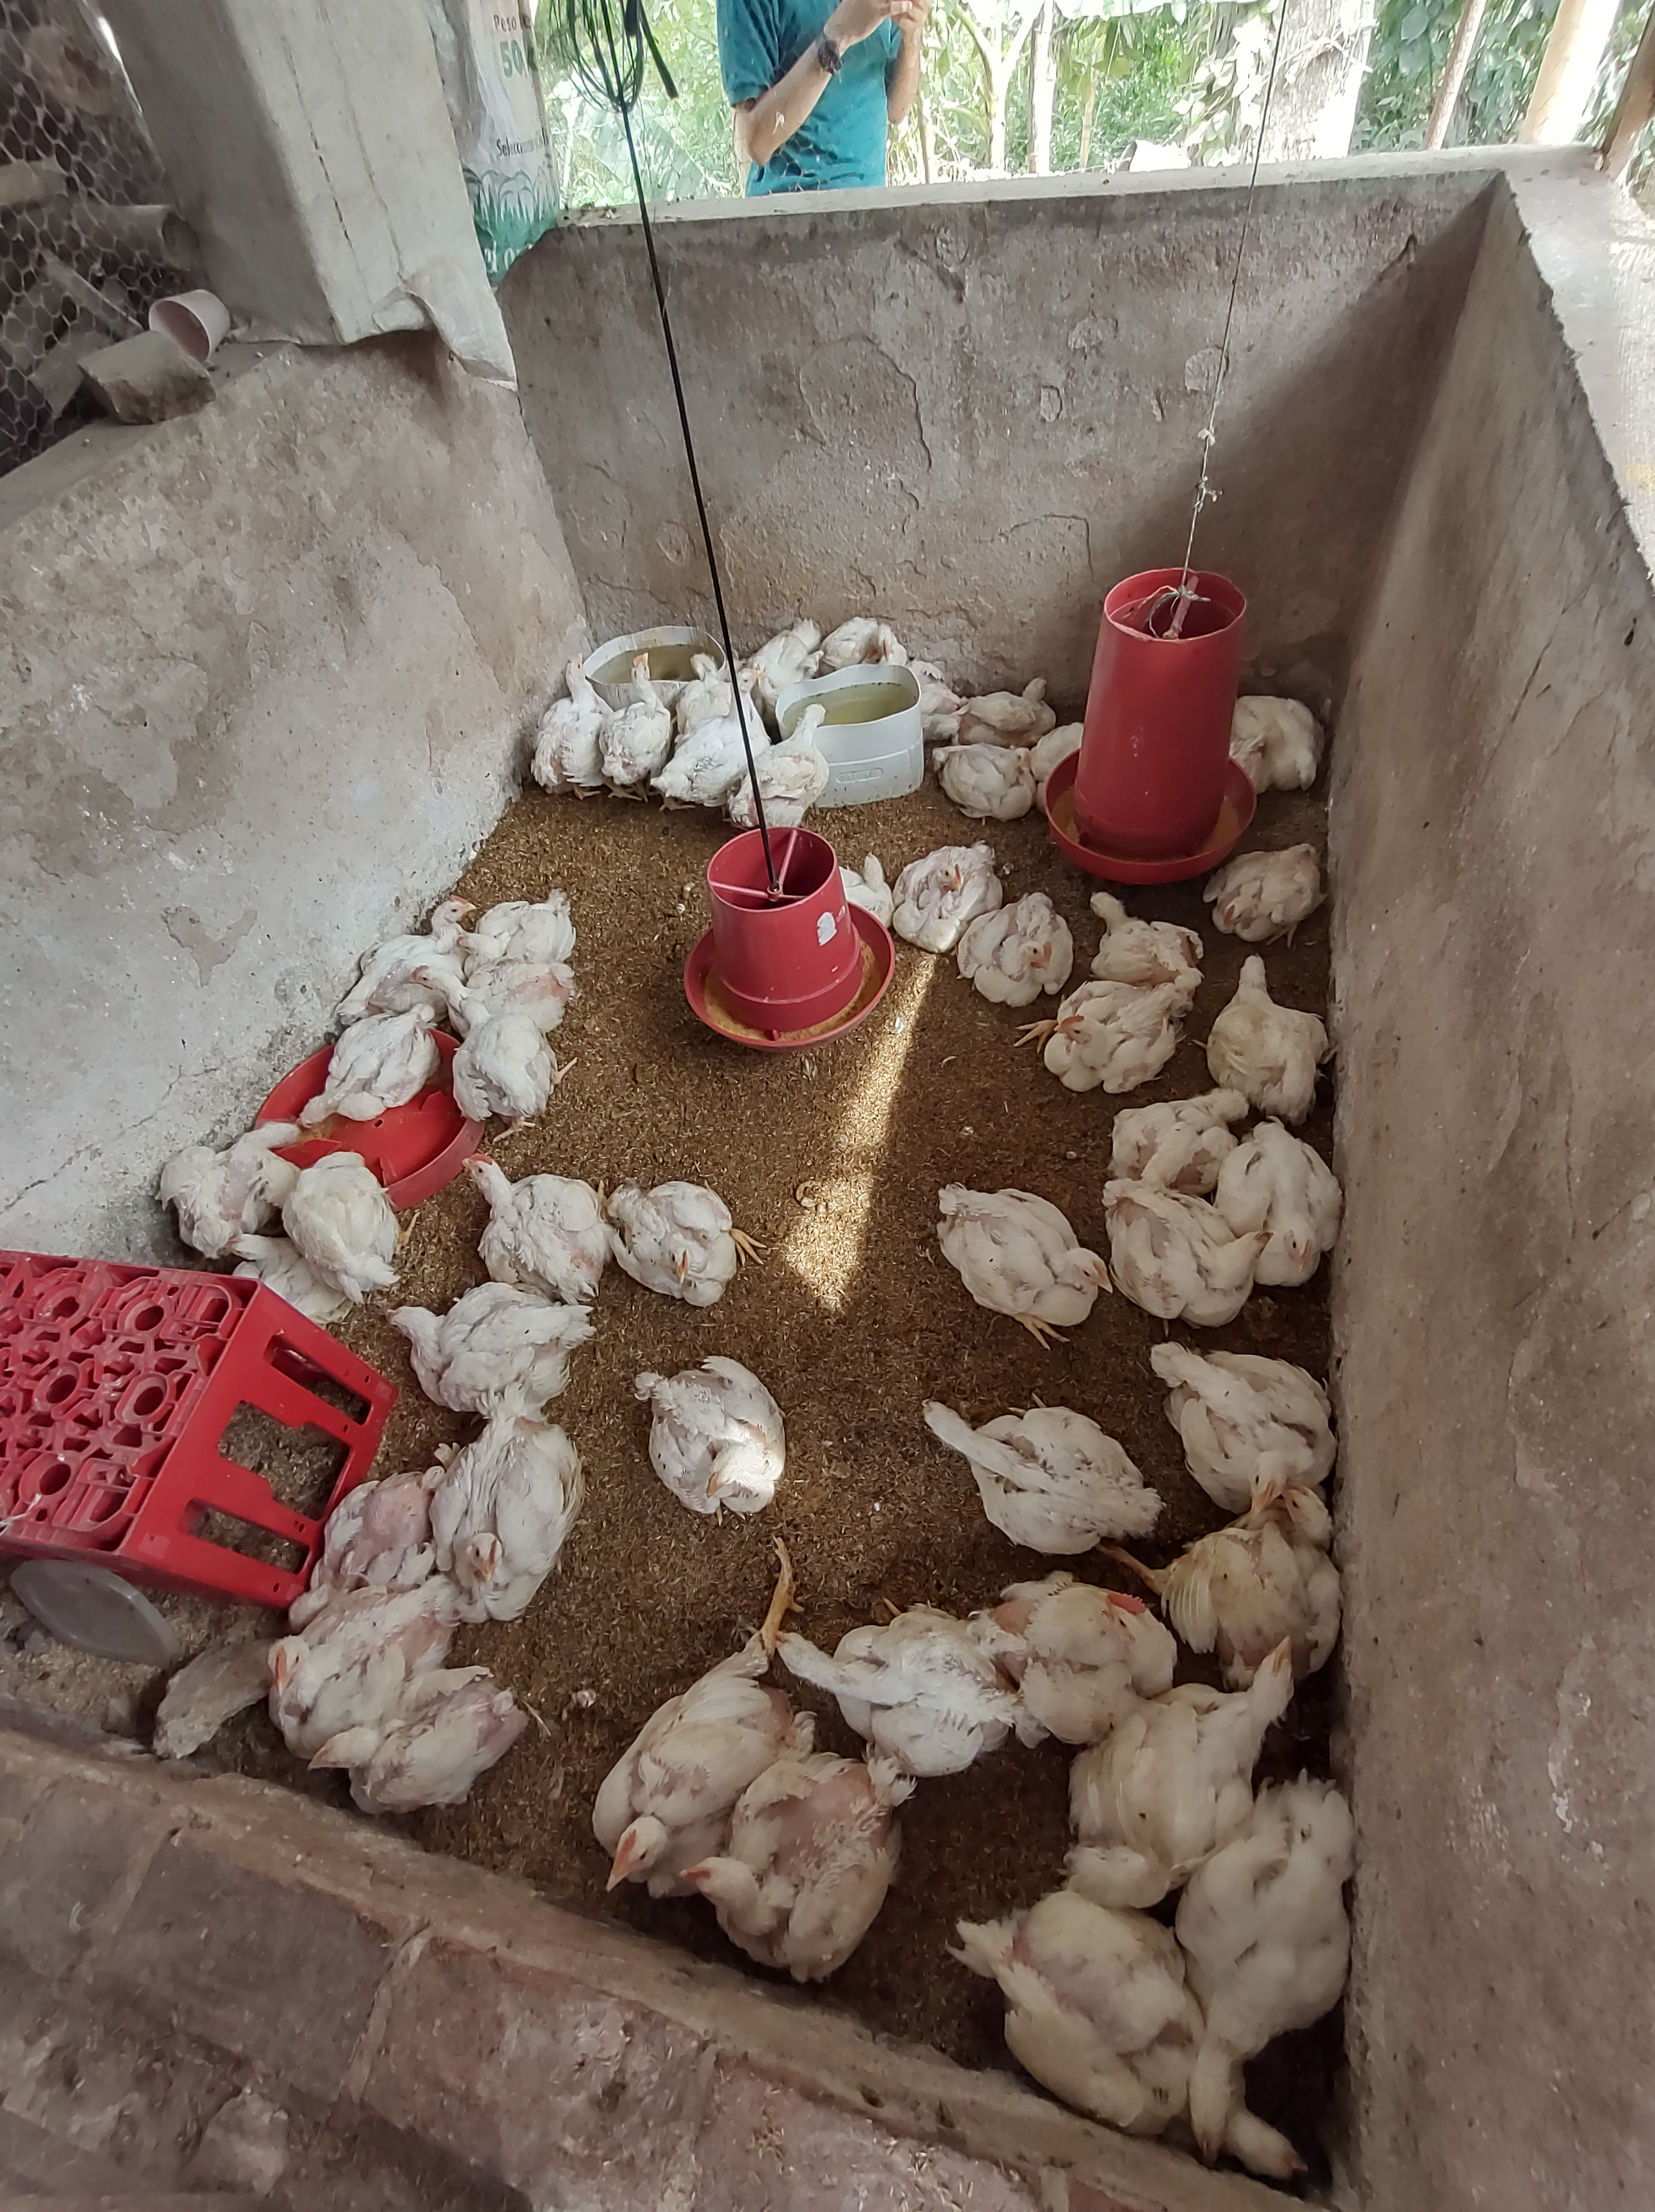Pollos: (1022, 1902, 1325, 2193), (1093, 1642, 1302, 1876), (1187, 1789, 1299, 2139), (699, 1769, 881, 1942), (756, 1624, 1000, 1749), (920, 1393, 1139, 1525), (934, 1183, 1116, 1336), (595, 1689, 723, 1902), (447, 1398, 560, 1616), (393, 1283, 584, 1403), (1160, 1343, 1297, 1508), (285, 1468, 429, 1622), (1022, 1579, 1170, 1720), (452, 1148, 596, 1285), (648, 1360, 782, 1508), (412, 962, 546, 1109), (1193, 1513, 1346, 1642), (268, 1148, 403, 1292), (1113, 1184, 1252, 1322), (1217, 955, 1335, 1109), (297, 1005, 429, 1132), (610, 1181, 741, 1304), (1245, 1125, 1344, 1282), (309, 1713, 483, 1802), (266, 1621, 405, 1723), (369, 892, 480, 1014), (176, 1125, 276, 1249), (1047, 986, 1161, 1092), (1102, 1094, 1238, 1183), (1215, 838, 1319, 936), (1085, 885, 1194, 977), (979, 897, 1069, 1000), (683, 663, 754, 788), (459, 892, 577, 963), (904, 845, 998, 934), (1240, 689, 1321, 790), (608, 649, 666, 790), (932, 748, 1041, 817), (760, 703, 826, 812), (548, 657, 603, 783), (965, 670, 1055, 743)
